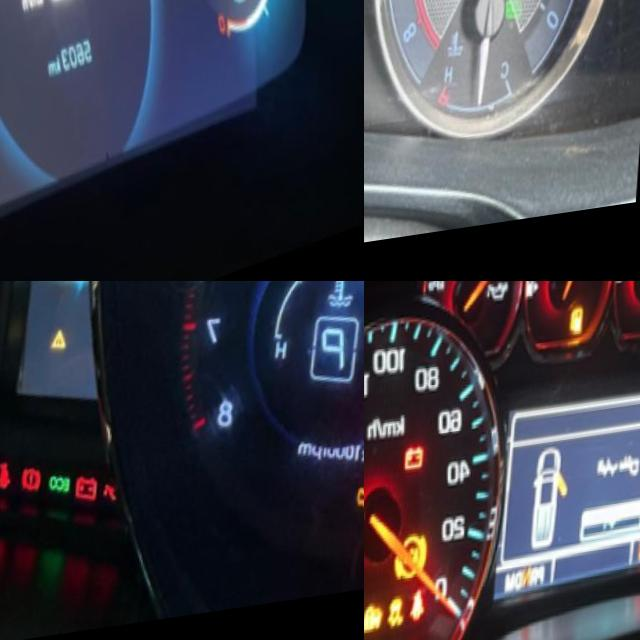Seat Belt: (0, 461, 18, 496), (414, 594, 431, 630)
